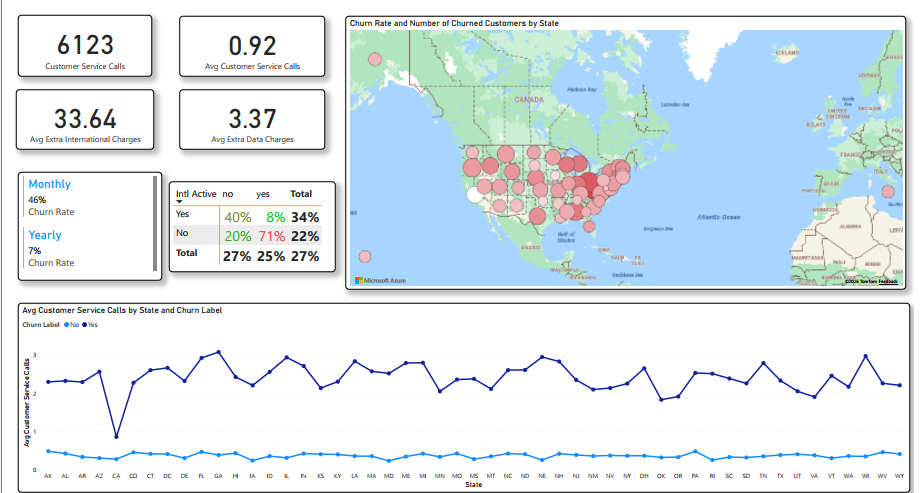

The dashboard page shown, as its layout file describes it:
{"tool":"powerbi","page":{"name":"Insights","canvas":[1800,976],"ordinal":4},"visuals":[{"type":"card","fields":{"Values":["Sum(Databel - Data.Customer Service Calls)"]},"box":[7.8,5.9,268.6,123.5],"z":0},{"type":"card","fields":{"Values":["Databel - Data.Avg Customer Service Calls"]},"box":[331.4,7.8,290.2,121.6],"z":1000},{"type":"card","fields":{"Values":["Databel - Data.Avg Extra International Charges"]},"box":[3.9,154.9,276.5,119.6],"z":2000},{"type":"card","fields":{"Values":["Databel - Data.Avg Extra Data Charges"]},"box":[1152.9,109.8,233.3,209.8],"z":3000},{"type":"lineChart","fields":{"Category":["Databel - Data.State"],"Y":["Databel - Data.Avg Customer Service Calls"],"Series":["Databel - Data.Churn Label"]},"box":[7.8,582.4,1784.3,378.4],"z":4000},{"type":"azureMap","fields":{"Category":["Databel - Data.State"],"Size":["Databel - Data.Number of Churned Customers"],"Y":["Databel - Data.Churn Rate"]},"box":[662.7,7.8,1121.6,547.1],"z":5000},{"type":"pivotTable","fields":{"Rows":["Databel - Data.Intl Active"],"Values":["Databel - Data.Churn Rate"],"Columns":["Databel - Data.Intl Plan"]},"box":[309.8,339.2,333.3,180.4],"z":6000},{"type":"multiRowCard","fields":{"Values":["Databel - Data.Churn Rate","Databel - Data.Contract Category"]},"box":[7.8,319.6,288.2,217.6],"z":7000},{"type":"card","fields":{"Values":["Databel - Data.Avg Extra Data Charges"]},"box":[331.4,154.9,290.2,119.6],"z":8000}]}

Visuals, with their boxes in screenshot pixels (x1, y1, x2, y2), scaled from the page's 1800x976 canvas onto the 924x493 screenshot:
card - Sum(Databel - Data.Customer Service Calls): {"left": 4, "top": 3, "right": 142, "bottom": 65}
card - Databel - Data.Avg Customer Service Calls: {"left": 170, "top": 4, "right": 319, "bottom": 65}
card - Databel - Data.Avg Extra International Charges: {"left": 2, "top": 78, "right": 144, "bottom": 139}
card - Databel - Data.Avg Extra Data Charges: {"left": 592, "top": 55, "right": 712, "bottom": 161}
lineChart - Databel - Data.State x Databel - Data.Avg Customer Service Calls: {"left": 4, "top": 294, "right": 920, "bottom": 485}
azureMap - Databel - Data.State x Databel - Data.Number of Churned Customers: {"left": 340, "top": 4, "right": 916, "bottom": 280}
pivotTable - Databel - Data.Intl Active x Databel - Data.Churn Rate: {"left": 159, "top": 171, "right": 330, "bottom": 262}
multiRowCard - Databel - Data.Churn Rate x Databel - Data.Contract Category: {"left": 4, "top": 161, "right": 152, "bottom": 271}
card - Databel - Data.Avg Extra Data Charges: {"left": 170, "top": 78, "right": 319, "bottom": 139}
